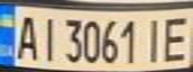0: (81, 16, 103, 64)
1: (118, 16, 142, 65)
3: (60, 15, 84, 63)
6: (100, 16, 121, 65)
A: (9, 11, 42, 62)
E: (160, 12, 193, 63)
I: (139, 13, 169, 64), (36, 12, 60, 62)
